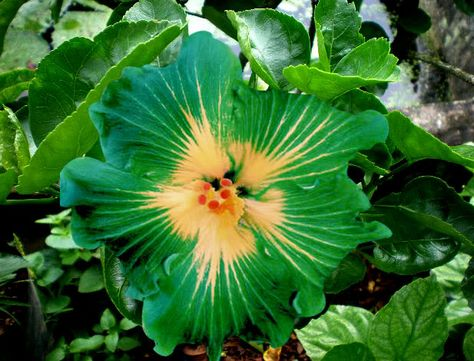Hibiscus: (86, 36, 380, 353)
